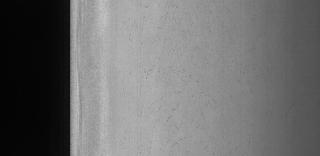silk spot: (137, 14, 221, 142)
